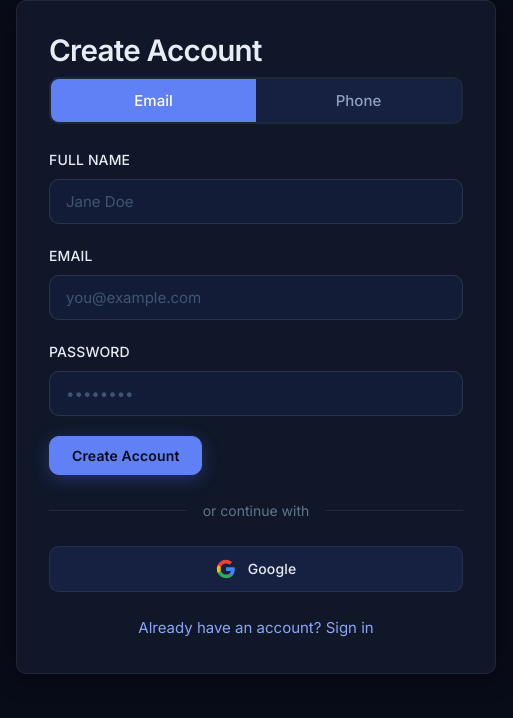
Test: Login Page › Email Signup › shows password validation error for weak password
The image size is (513, 718).
Type "jane@example.com" into the field labelled "Email".
click(256, 297); type("jane@example.com")  # box top-left (49, 275), bottom-right (463, 320)
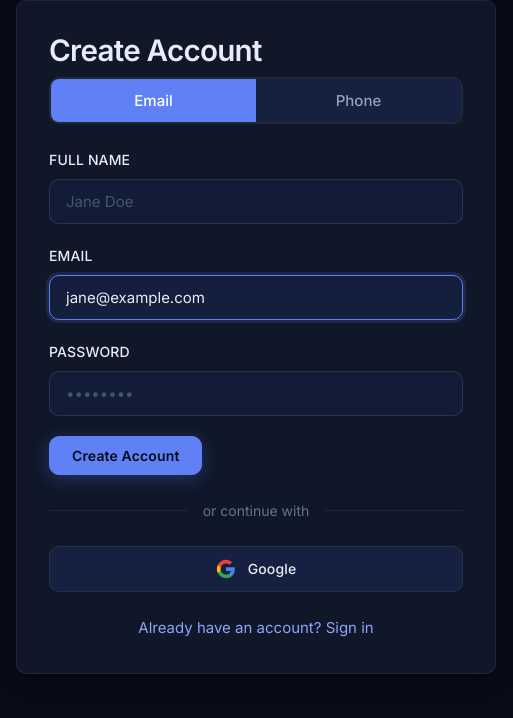
Type "short" into the password field labelled "Password".
click(256, 393); type("short")  # box top-left (49, 371), bottom-right (463, 416)
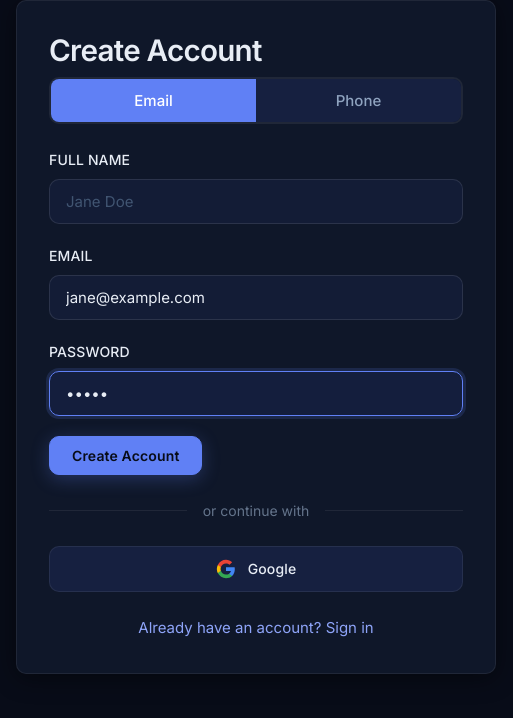
Click the button "Create Account".
click(126, 455)  # box top-left (49, 436), bottom-right (202, 475)
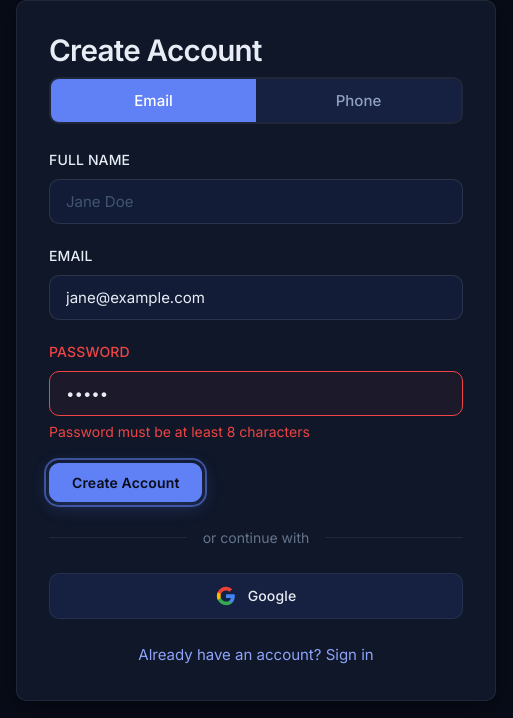
Now the text "Password must be at least 8 characters" is shown, box top-left (49, 423), bottom-right (310, 440)
